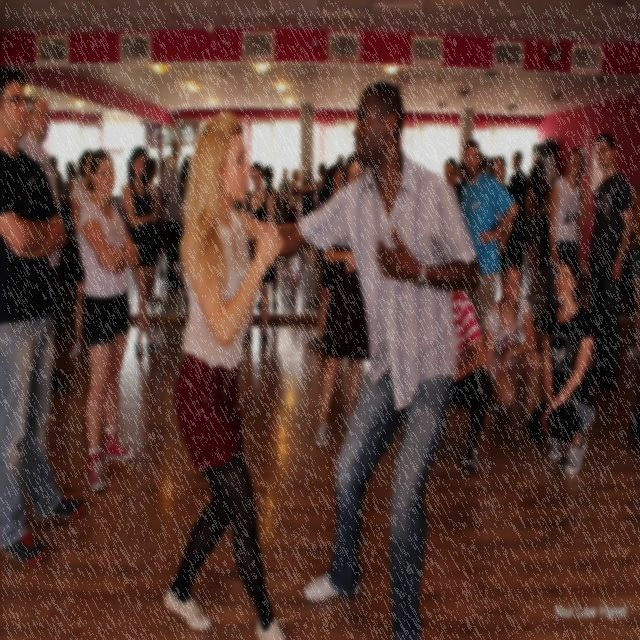pessoa: (232, 79, 484, 638), (162, 109, 302, 639), (0, 59, 91, 575), (74, 145, 142, 495), (311, 152, 372, 449), (525, 253, 597, 477), (16, 95, 66, 397), (580, 128, 634, 396), (433, 288, 498, 478), (460, 138, 520, 334), (480, 260, 542, 430), (122, 144, 164, 356), (307, 160, 345, 350), (546, 146, 588, 306), (241, 160, 276, 346), (68, 148, 94, 361), (159, 136, 186, 292), (492, 154, 516, 296), (524, 165, 548, 302), (261, 164, 282, 310), (282, 168, 312, 266), (528, 158, 552, 272), (622, 240, 640, 362), (308, 161, 327, 267), (46, 154, 80, 200), (300, 167, 317, 246), (508, 150, 530, 208), (443, 157, 462, 210), (318, 163, 336, 210), (278, 167, 290, 226), (629, 380, 639, 448), (178, 152, 192, 200), (156, 158, 167, 202), (479, 152, 497, 177), (232, 186, 249, 212), (458, 158, 468, 182), (337, 153, 343, 166)
